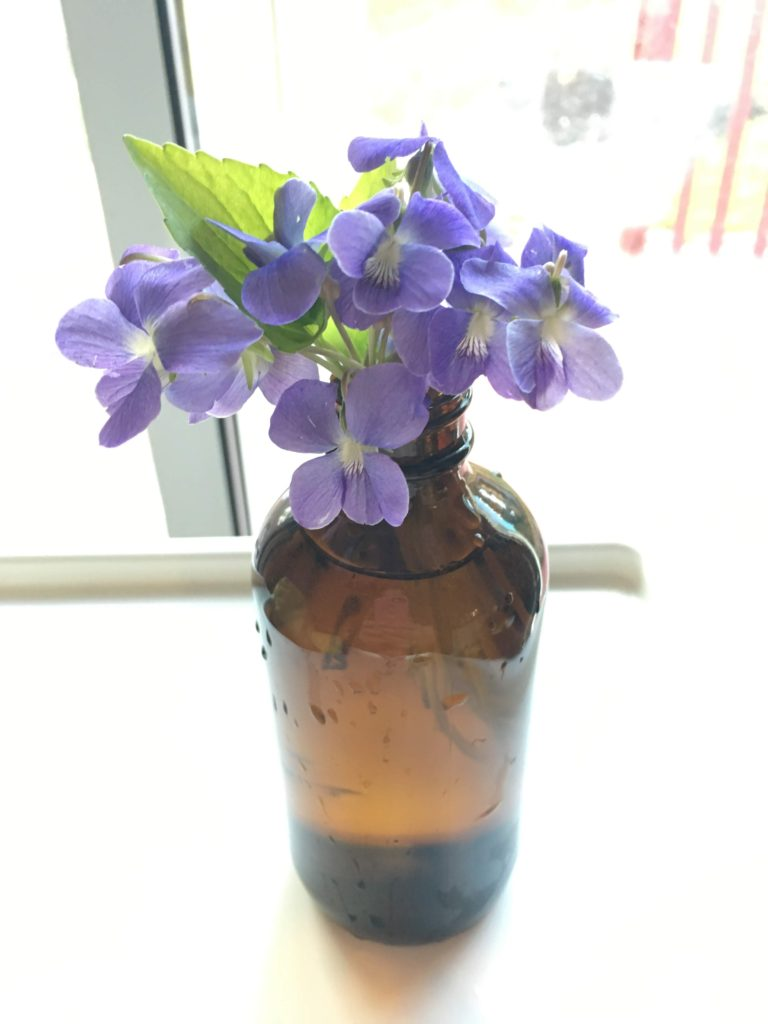violet: (61, 232, 251, 398), (319, 195, 512, 355), (480, 242, 644, 429), (262, 367, 448, 523)
